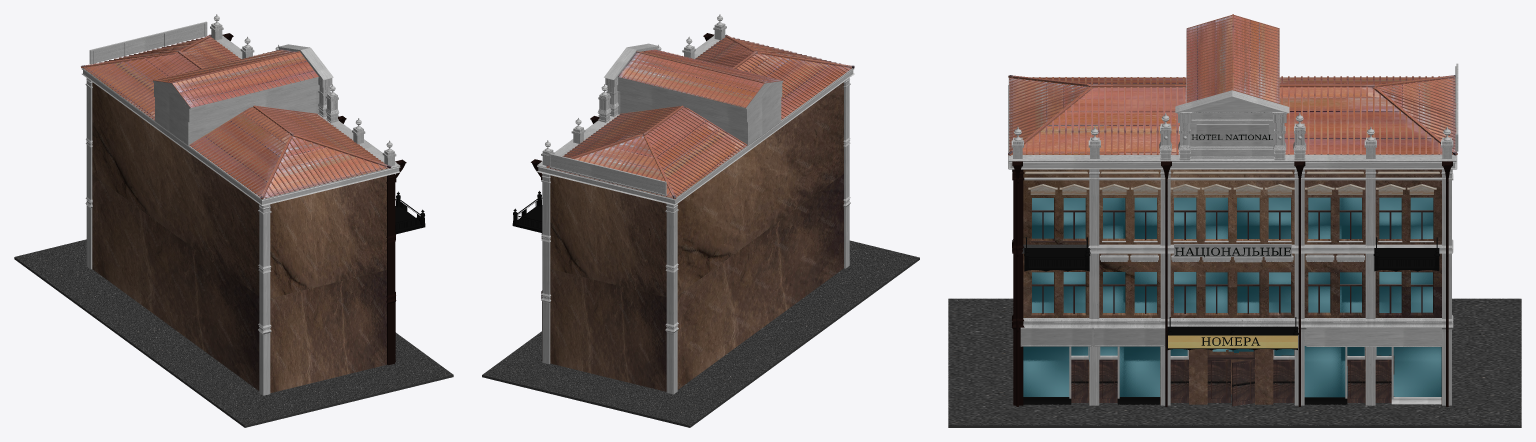
The model's file is hotel-national.obj.
3 renders of one model, left to right at view 1: azimuth 30°, elevation 25°; view 2: azimuth 150°, elevation 25°; view 3: azimuth 270°, elevation 25°, orthographic. The views are drawn at different scales.
Parts seen in each view (by area): view 1: Base, Cube, Roof_3, Superstructure, Roof_2, Roof_4, Roof_1, Column_7, Signboard_7, Column_1, Column_8, Balcony_1; view 2: Base, Cube, Roof_4, Superstructure, Roof_2, Roof_3, Roof_1, Column_8, Signboard_7, Column_2, Column_7, Balcony_2; view 3: Base, Cube, Roof_4, Roof_3, Roof_2, Roof_1, Superstructure, Decor_1, Signboard_2, Column_6, Column_3, Column_5 (+30 smaller).
Part boxes in pixels (x1,y1,x2,y2): Base: (92, 82, 386, 392); Cube: (14, 239, 453, 427); Roof_3: (189, 105, 391, 199); Superstructure: (153, 44, 333, 145); Roof_2: (153, 49, 318, 107); Roof_4: (81, 34, 240, 120); Roof_1: (82, 35, 400, 205); Column_7: (258, 204, 271, 395); Signboard_7: (89, 21, 207, 64); Column_1: (386, 174, 396, 365); Column_8: (85, 78, 92, 269); Balcony_1: (395, 191, 425, 234); Base: (550, 82, 843, 391); Cube: (482, 240, 919, 427); Roof_4: (546, 105, 747, 199); Superstructure: (604, 43, 783, 145); Roof_2: (618, 49, 783, 107); Roof_3: (695, 34, 854, 119); Roof_1: (537, 35, 854, 205); Column_8: (665, 204, 678, 394); Signboard_7: (549, 153, 666, 195); Column_2: (541, 173, 550, 364); Column_7: (843, 78, 850, 268); Balcony_2: (512, 191, 542, 232); Base: (1023, 169, 1441, 404); Cube: (948, 298, 1521, 427); Roof_4: (1279, 75, 1457, 155); Roof_3: (1008, 75, 1186, 155); Roof_2: (1186, 14, 1279, 103); Roof_1: (1008, 77, 1457, 169); Superstructure: (1175, 29, 1289, 160); Decor_1: (1028, 184, 1436, 194); Signboard_2: (1306, 326, 1441, 346); Column_6: (1088, 169, 1100, 405); Column_3: (1364, 169, 1376, 405); Column_5: (1159, 169, 1171, 405).
Bounding box in the file's own units: 4.66 × 5.3 × 8.76.
Materials: 12 (9 with a texture image).
